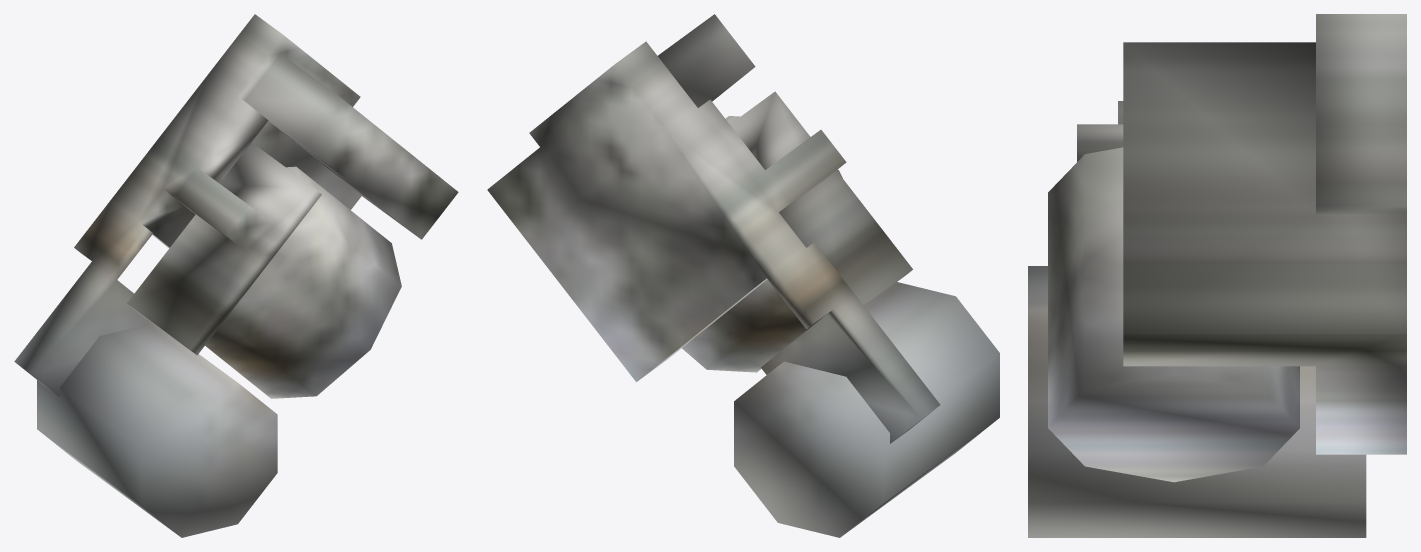
The model's file is dextre_arm_1_shoulder_yaw.dae.
3 views of the same model, side by side, from view 1: azimuth 30°, elevation 25°; view 2: azimuth 150°, elevation 25°; view 3: azimuth 270°, elevation 25° (orthographic). The views are drawn at different scales.
Visible parts, largest first — view 1: 29 DEXTRE.011; view 2: 29 DEXTRE.011; view 3: 29 DEXTRE.011.
Boxes of the visible parts, x1,y1,x2,y2 form: 29 DEXTRE.011: [14, 14, 458, 537]; 29 DEXTRE.011: [487, 14, 999, 537]; 29 DEXTRE.011: [1028, 14, 1406, 537].
Size of the model in its own units: 0.6809 by 0.3704 by 0.6795.
Materials: 1 (1 with a texture image).
